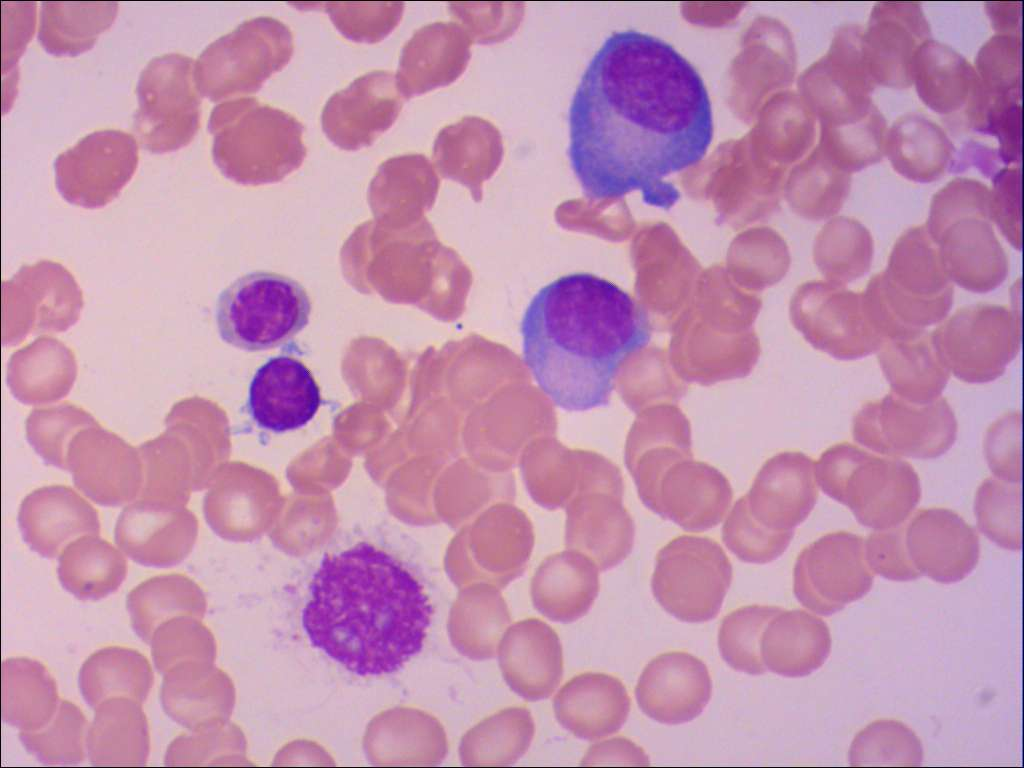23: (212, 267, 316, 357)
32: (242, 352, 326, 436)
51: (563, 24, 717, 213), (517, 270, 658, 416)
x: (279, 523, 456, 693)
